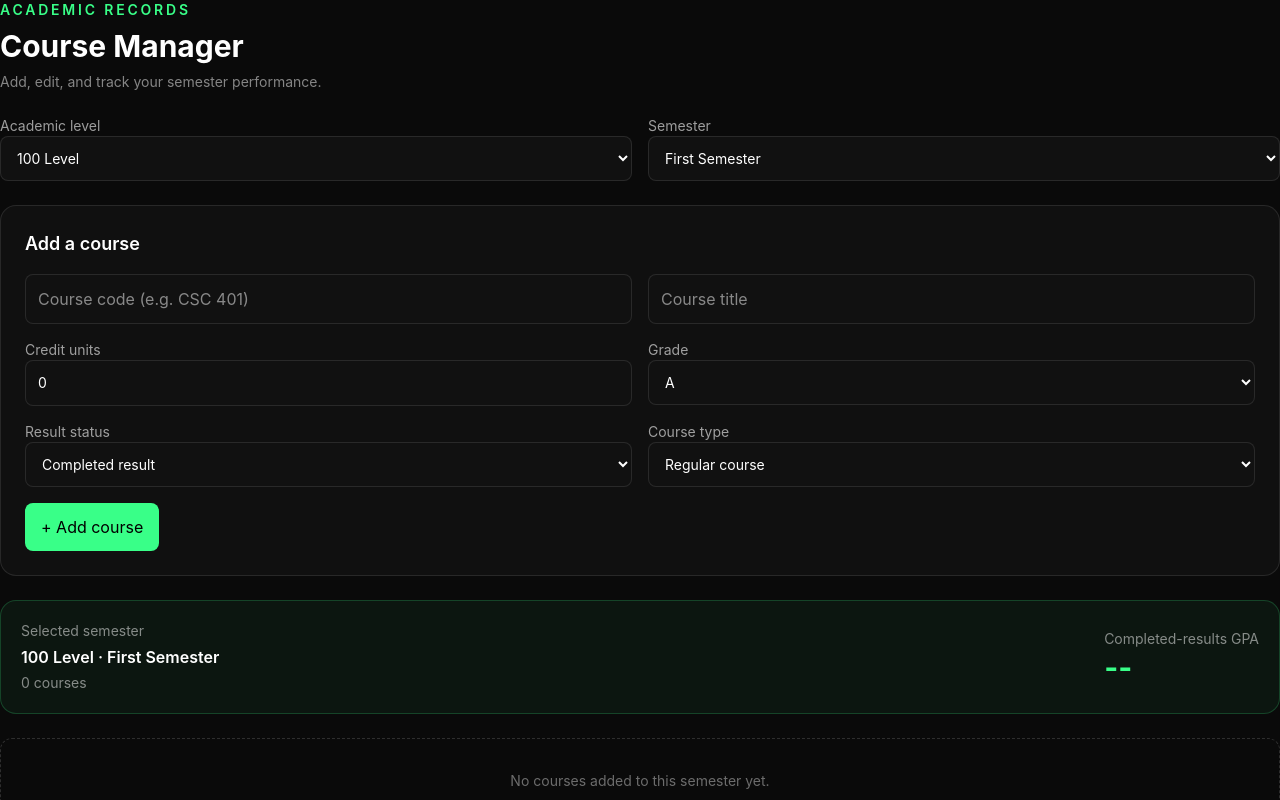
it: CourseManager › adds a course to the selected semester
In the field with placeholder "Course code (e.g. CSC 401)": [328, 299] box x1=25 y1=274 x2=632 y2=324, type "CSC 401"
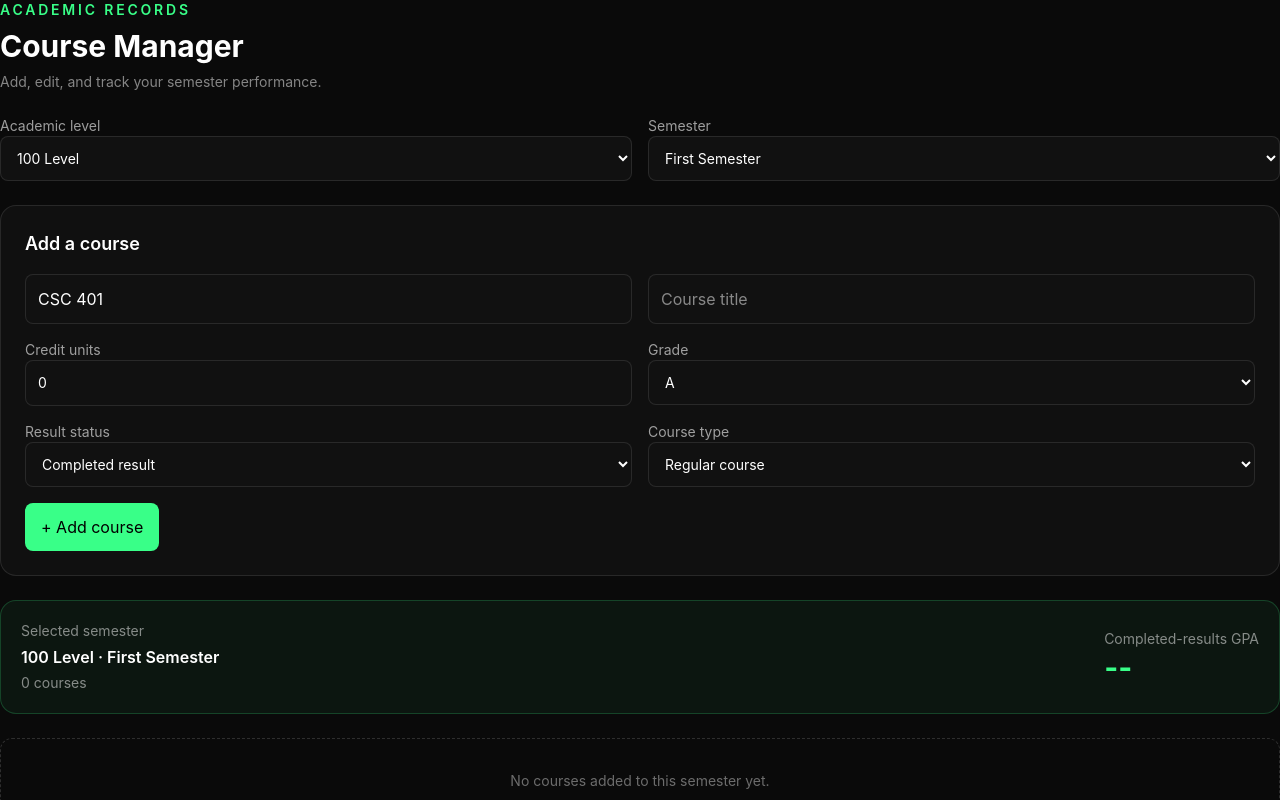
In the field with placeholder "Course title": [952, 299] box x1=648 y1=274 x2=1255 y2=324, type "Software Engineering"
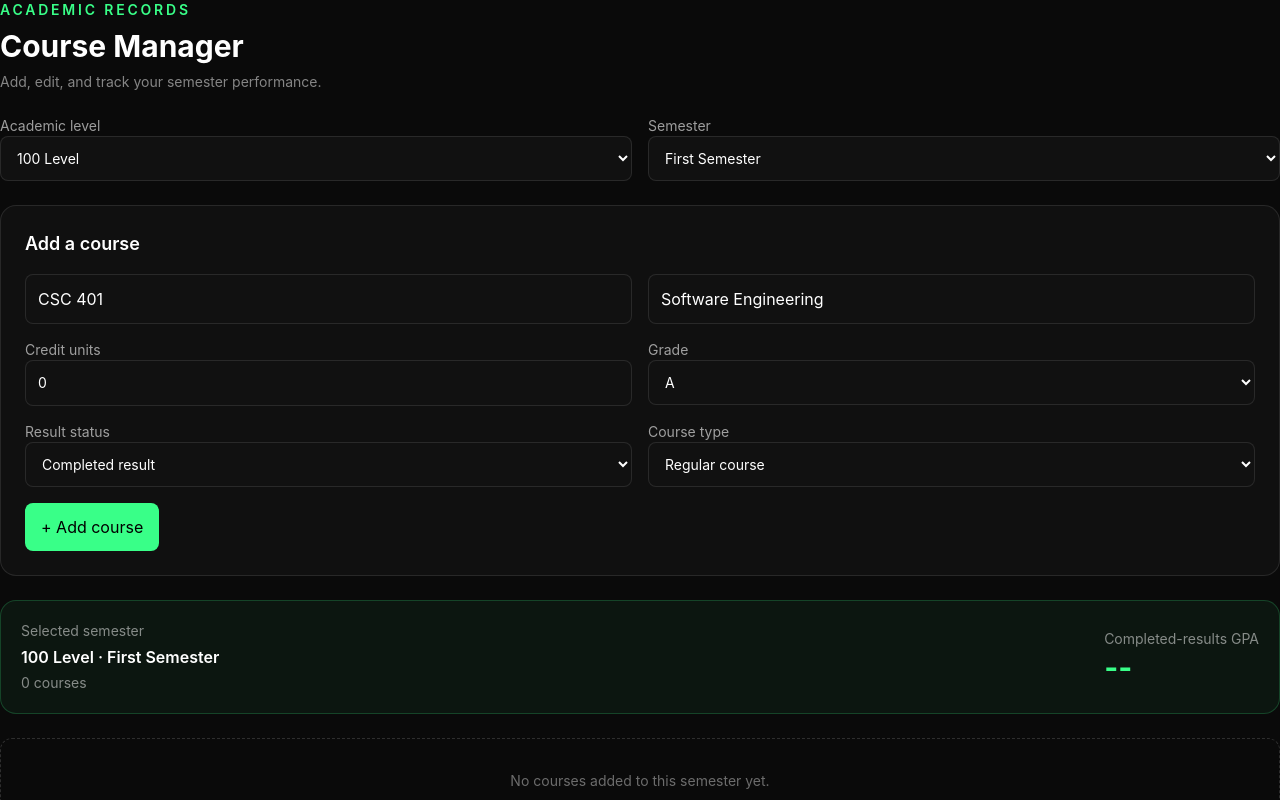
Replace the text in the number field labelled "Credit units" with "3": [328, 383] box x1=25 y1=360 x2=632 y2=406
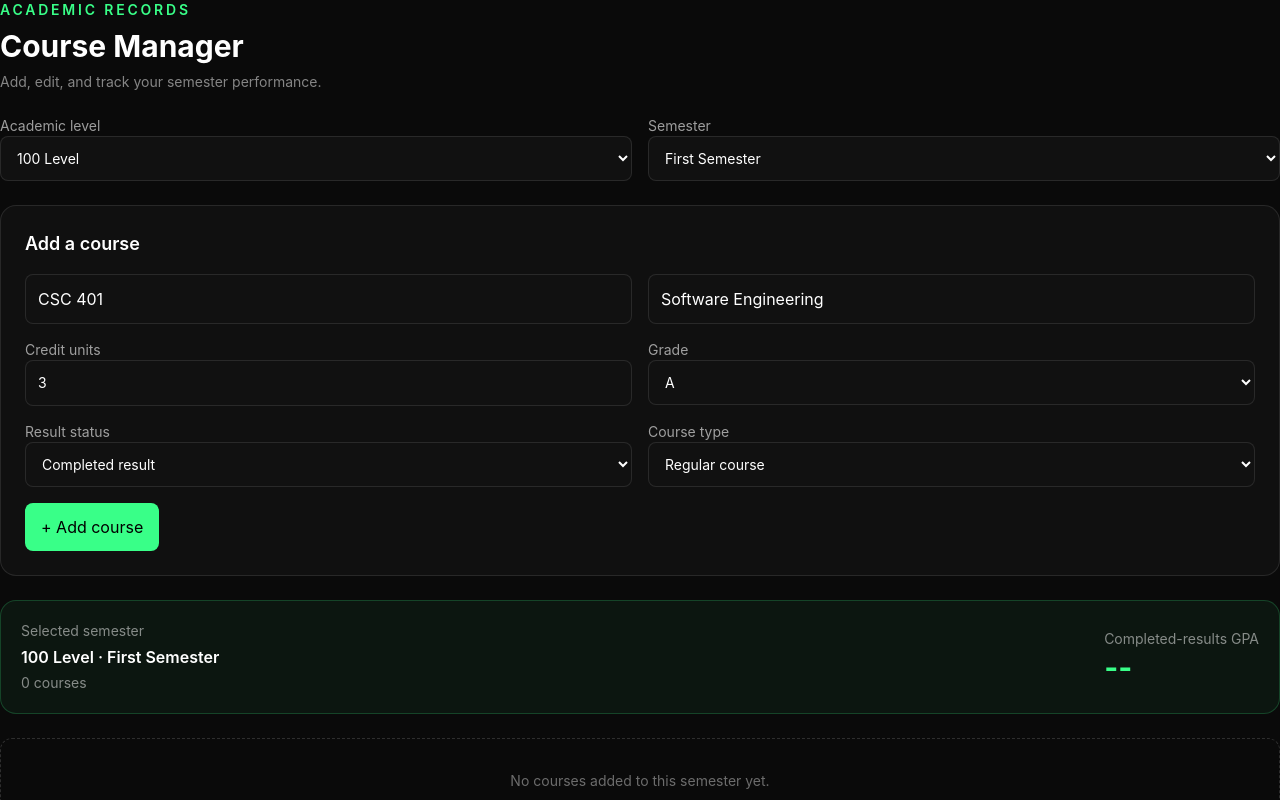
Select "A" in the dropdown labelled "Grade": [952, 382] box x1=648 y1=360 x2=1255 y2=405
Select "Completed result" in the dropdown labelled "Result status": [328, 464] box x1=25 y1=442 x2=632 y2=487
Select "Regular course" in the dropdown labelled "Course type": [952, 464] box x1=648 y1=442 x2=1255 y2=487
Click the button "+ Add course": [92, 527] box x1=25 y1=503 x2=159 y2=551
(page scrolled)
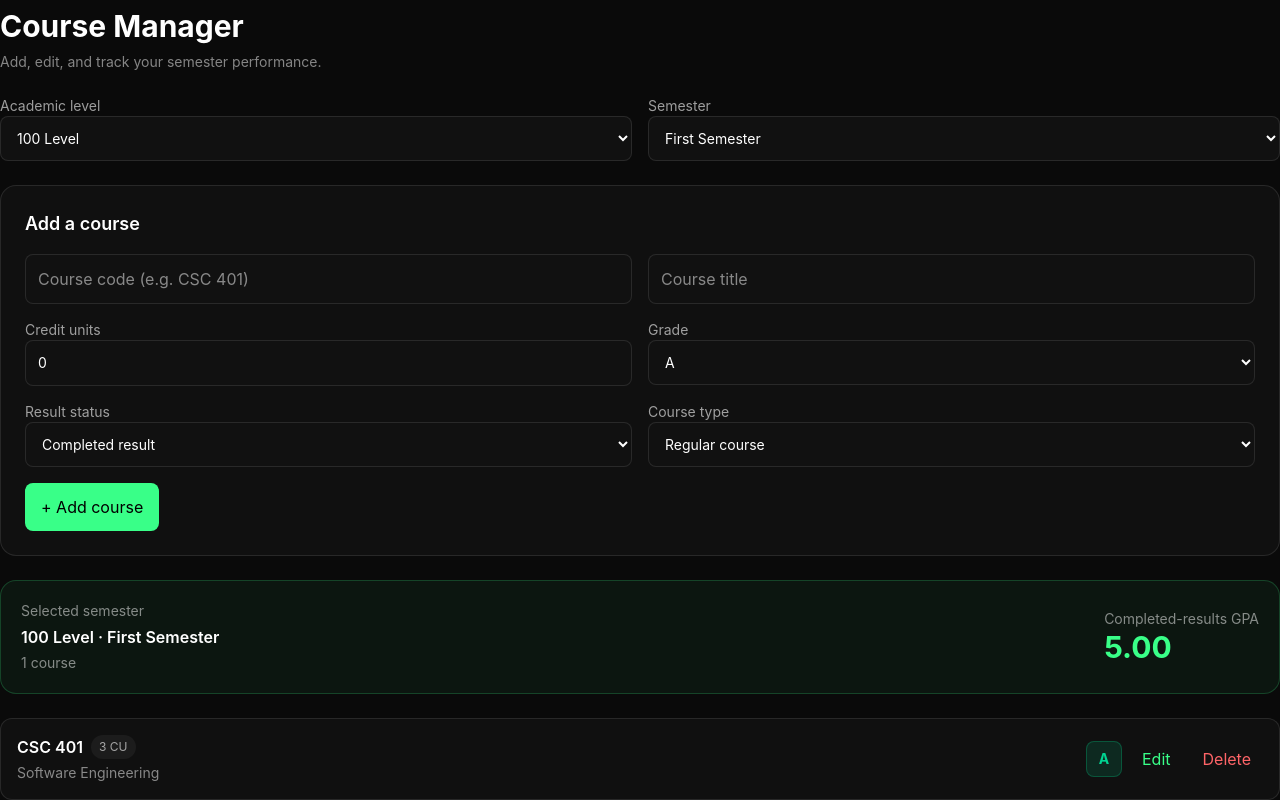
Result: the heading "CSC 401" is shown at x1=17 y1=735 x2=83 y2=759
Result: the text "Software Engineering" is shown at x1=17 y1=764 x2=159 y2=781
